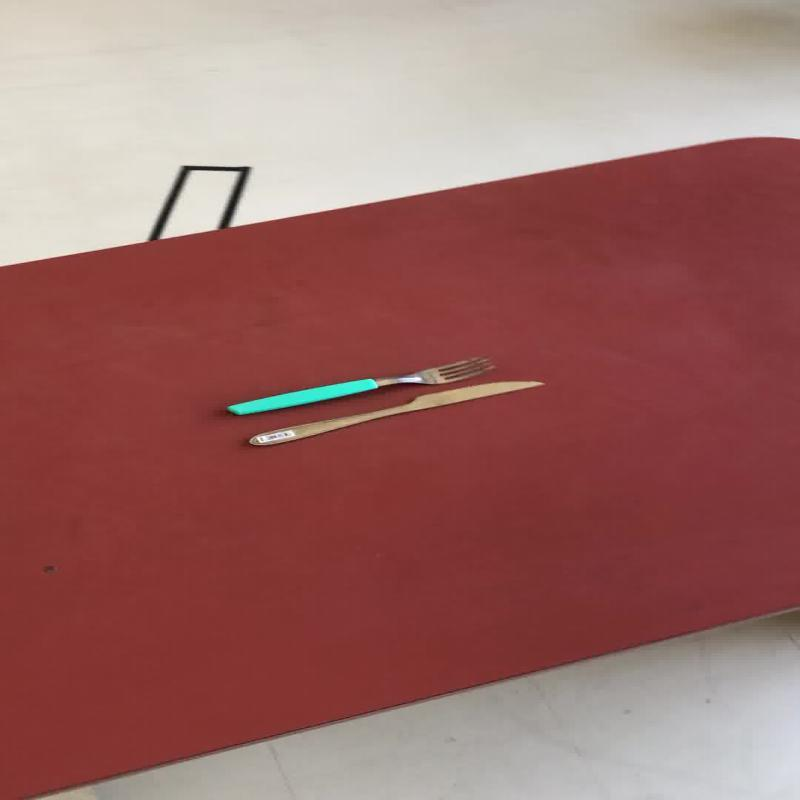fork: (223, 354, 496, 416)
knife: (246, 378, 544, 446), (222, 354, 496, 416)
